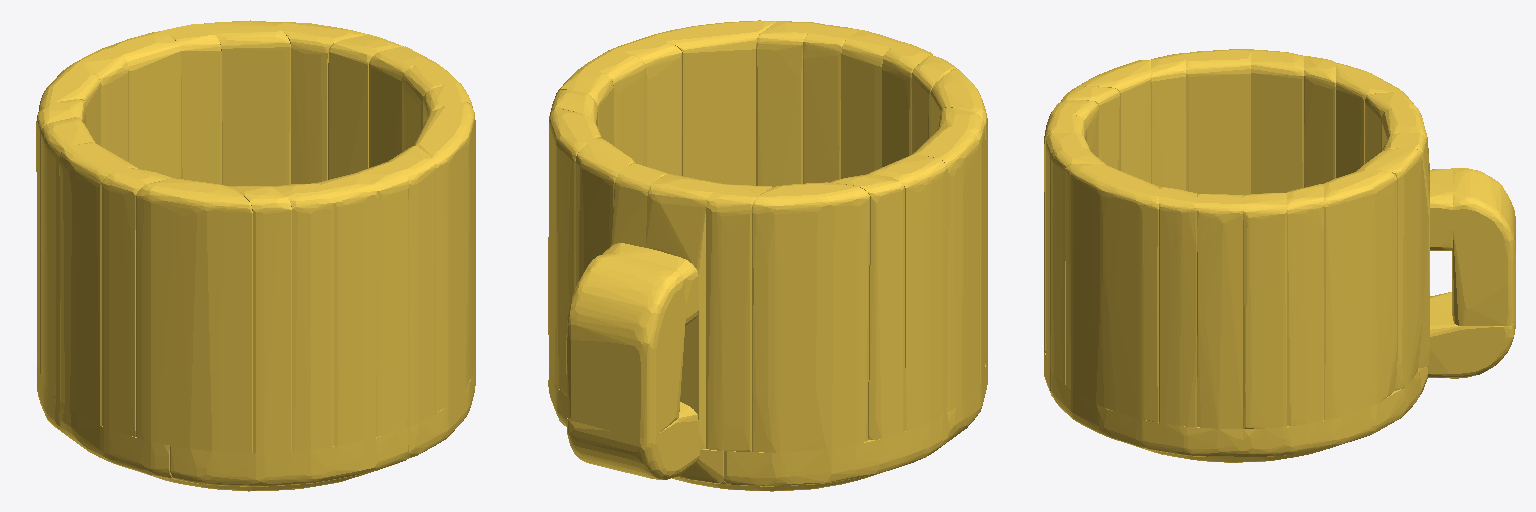
robot.urdf — 874.urdf:
<?xml version="1.0" ?>
<robot name="874.urdf">
	<link name="baseLink">
		<inertial>
			<origin rpy="0 0 0" xyz="0 0 0"/>
				<mass value="0.1"/>
				<inertia ixx="6e-5" ixy="0" ixz="0" iyy="6e-5" iyz="0" izz="6e-5"/>
		</inertial>
		<visual>
			<origin rpy="0 0 0" xyz="0 0 0"/>
			<geometry>
				<mesh filename="30_decom_wt.obj" scale="0.84 0.84 0.80"/>
			</geometry>
			<material name="yellow">
				<color rgba="0.98 0.84 0.35 1"/>
			</material>
		</visual>
		<collision>
			<origin rpy="0 0 0" xyz="0 0 0"/>
			<geometry>
				<mesh filename="30_decom_wt.obj" scale="0.84 0.84 0.80"/>
			</geometry>
		</collision>
	</link>
</robot>

--- What the picture shows (computed from the rendered views, not written in the file) ---
Views: 3 orthographic renders of the robot side by side, from view 1: azimuth 30°, elevation 25°; view 2: azimuth 150°, elevation 25°; view 3: azimuth 270°, elevation 25°.
Robot: 874.urdf — 1 links, 0 joints (none); root link baseLink; default pose: every joint at zero.
Visible links, largest first — view 1: baseLink; view 2: baseLink; view 3: baseLink.
Link boxes in pixels (<box>): baseLink: <box>36,20,475,491</box>; baseLink: <box>548,20,987,491</box>; baseLink: <box>1044,49,1515,462</box>.
Size in the robot's own frame: 0.0869 by 0.1068 by 0.0686 metres.
1 mesh visuals loaded from 1 distinct referenced files (1 OBJ).